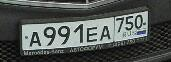license-plateSW: (20, 10, 150, 52)
